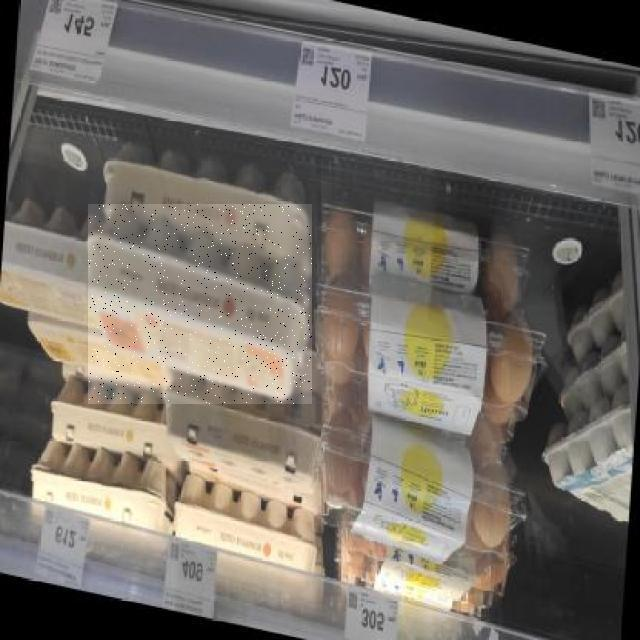egg: (0, 202, 244, 608)
